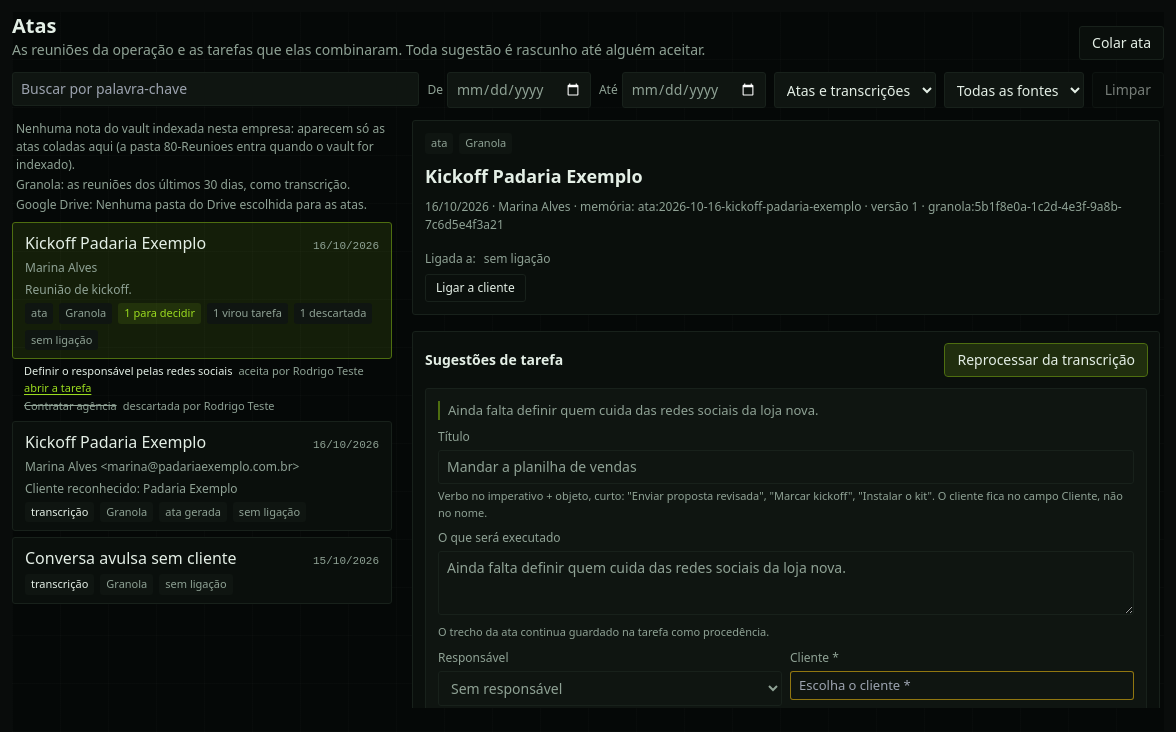
it: Atas › Reuniões do Granola › a ata do Granola reprocessa da transcrição
Click the button "Reprocessar da transcrição": (1046, 360) 946,344 -> 1147,376
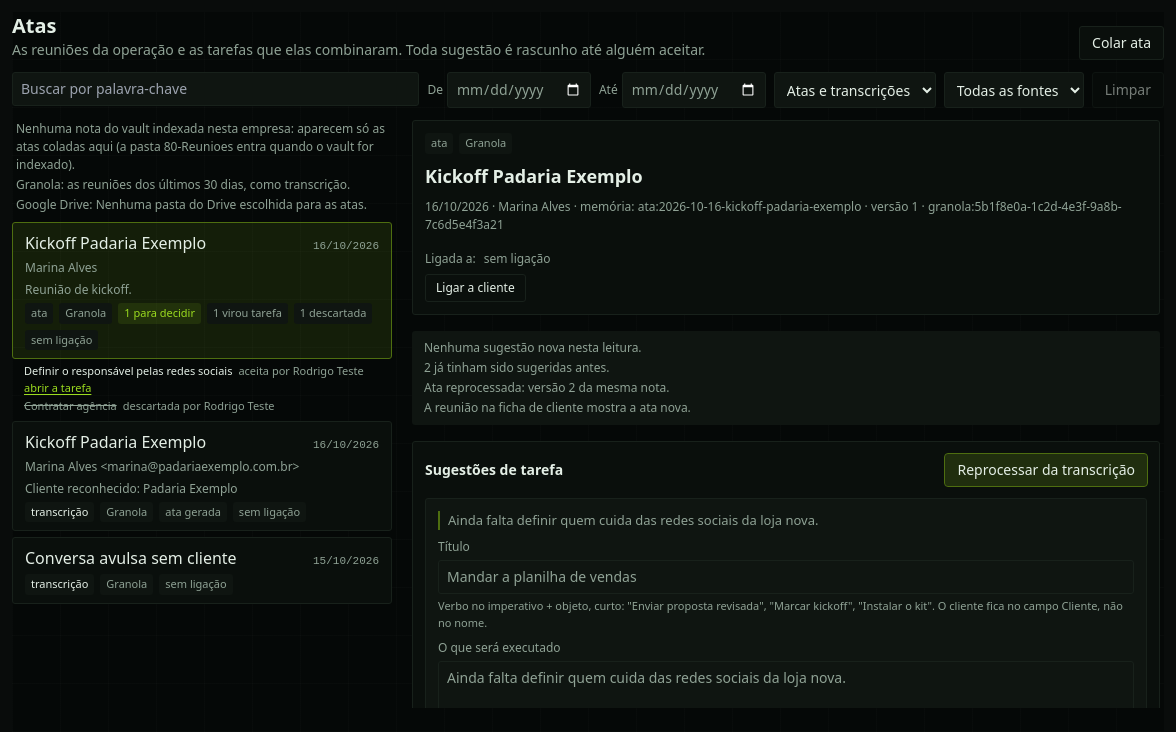
Expected: the list item "Ata reprocessada: versão 2 da mesma nota." is shown, 424,378 -> 670,396
